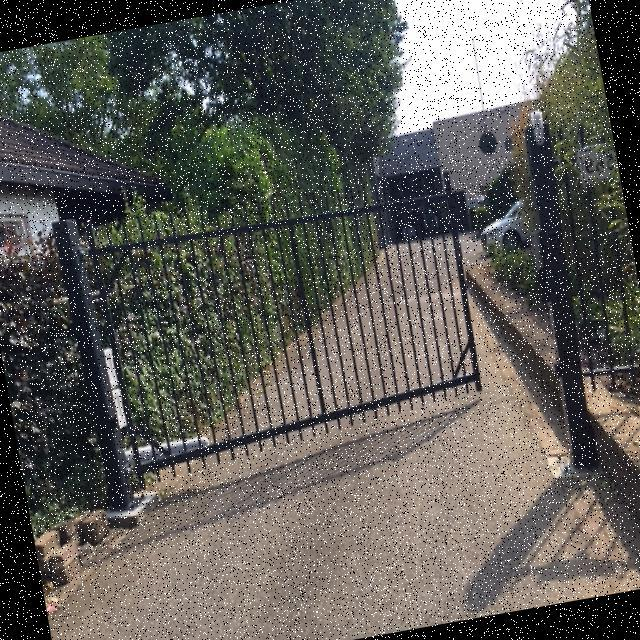fence line: (39, 184, 500, 519), (507, 111, 639, 467)
